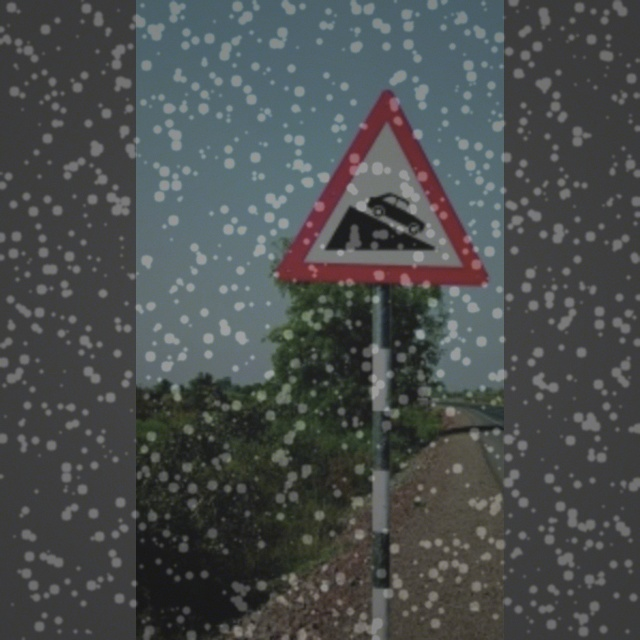Steep_Descent: (283, 91, 488, 294)
